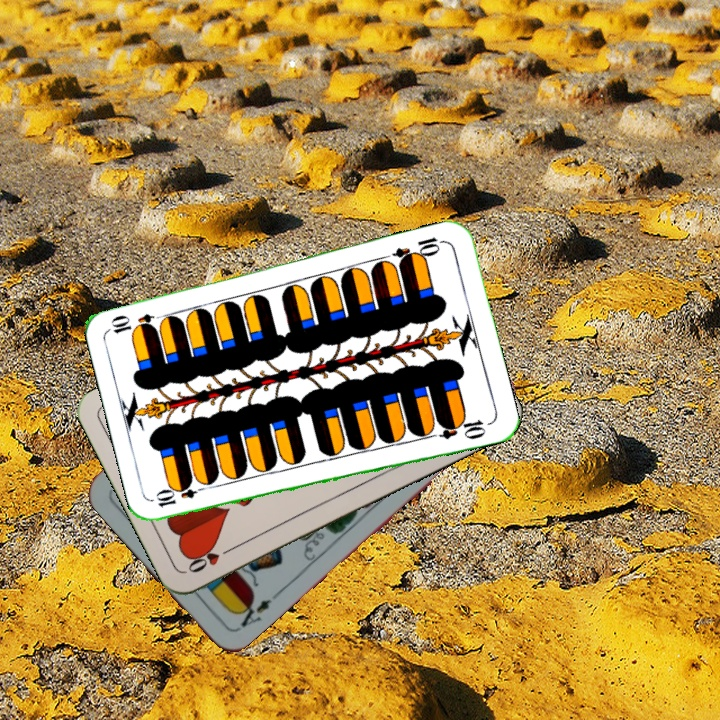E10: (389, 232, 448, 267), (152, 480, 210, 510)
EA: (231, 592, 275, 634)
HO: (183, 542, 238, 576)
